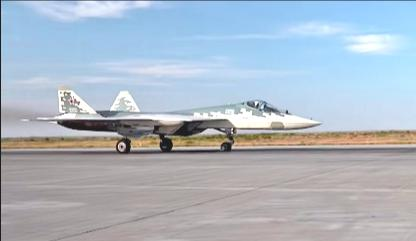SR71: (19, 85, 322, 154)
